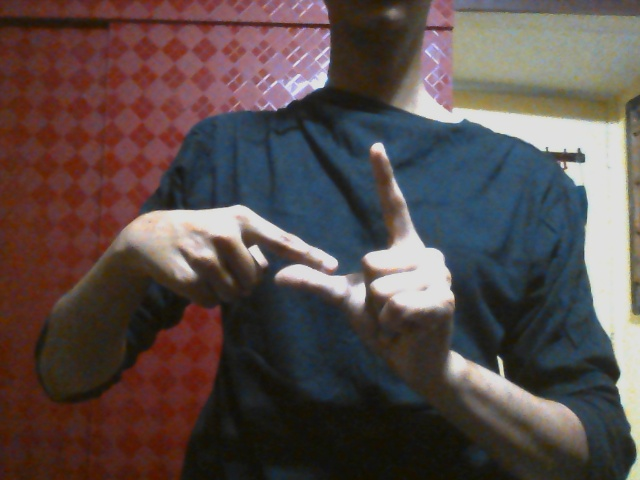J: (130, 142, 456, 360)
